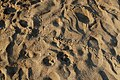human_footprint: (3, 10, 31, 30), (7, 38, 18, 78), (87, 37, 101, 68), (70, 9, 92, 25), (55, 54, 70, 76), (33, 16, 42, 38)
